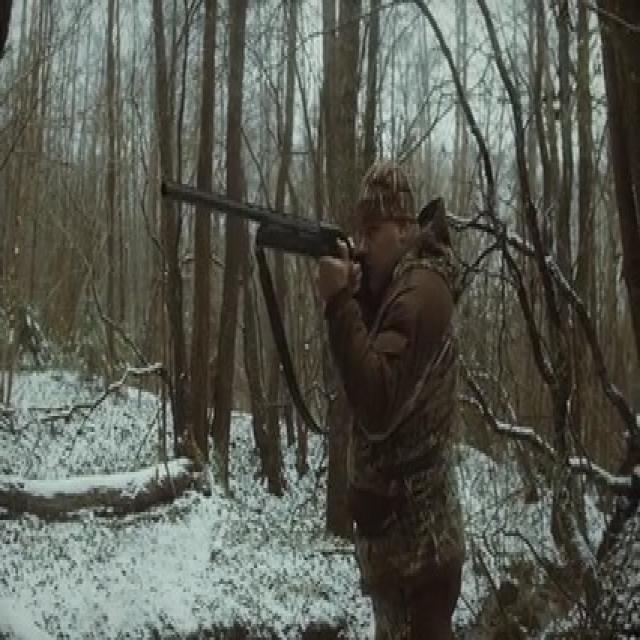Gun_Holder: (153, 172, 362, 324)
Person: (322, 148, 474, 640)
